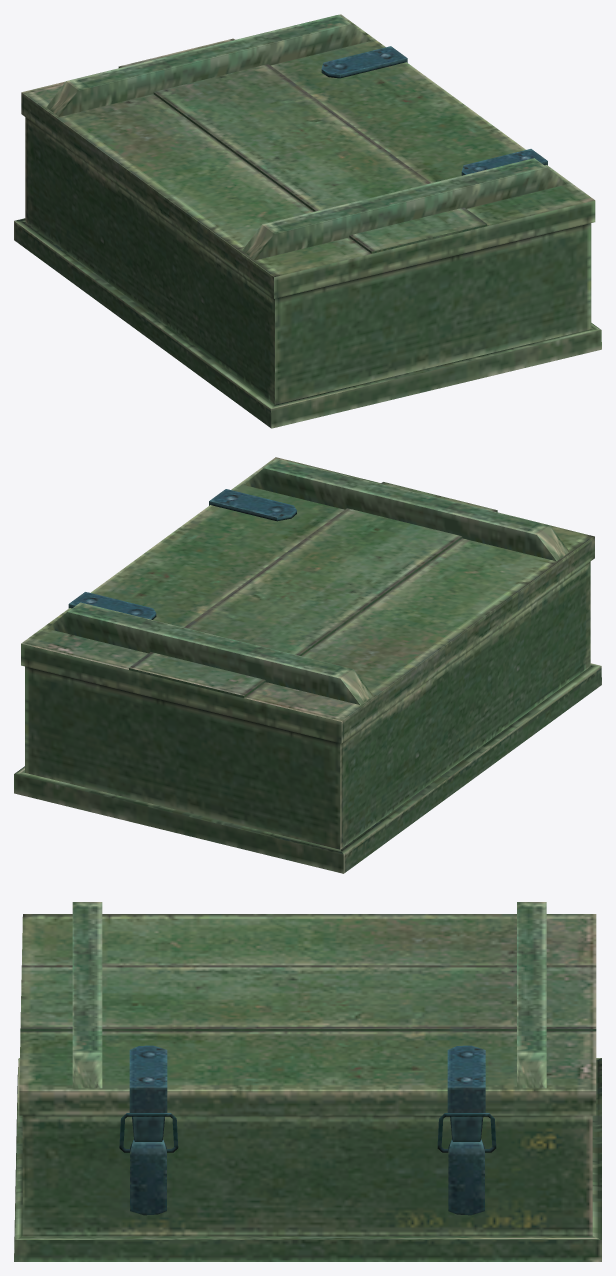
The model's file is Prop_Dyx01.glb.
3 renders of one model, top to bottom at view 1: azimuth 30°, elevation 25°; view 2: azimuth 150°, elevation 25°; view 3: azimuth 270°, elevation 25°, orthographic. The views are drawn at different scales.
Visible parts, largest first — view 1: xiutz_dyx01; view 2: xiutz_dyx01; view 3: xiutz_dyx01.
Part boxes in pixels (<box>): xiutz_dyx01: <box>14,14,601,428</box>; xiutz_dyx01: <box>14,457,601,873</box>; xiutz_dyx01: <box>14,902,601,1261</box>.
Bounding box in the file's own units: 0.9731 × 0.4797 × 1.32.
Materials: 1 (1 with a texture image).
